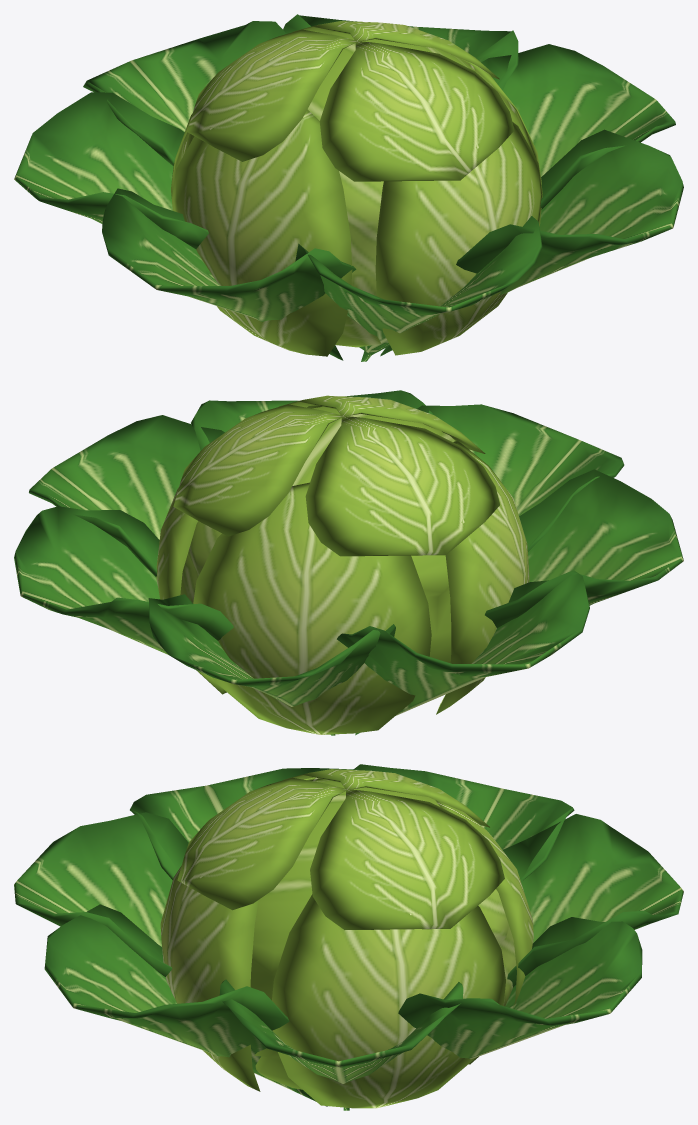
The model's file is NP_Cabbage_HeadForming_LOD1.fbx.
The picture shows the model from 3 angles, top to bottom: view 1: azimuth 30°, elevation 25°; view 2: azimuth 150°, elevation 25°; view 3: azimuth 270°, elevation 25°; orthographic projection.
Parts seen in each view (by area): view 1: NP_Cabbage_HeadForming; view 2: NP_Cabbage_HeadForming; view 3: NP_Cabbage_HeadForming.
Boxes of the visible parts, box(x1,y1,x2,y2) form: NP_Cabbage_HeadForming: box(14, 14, 683, 361); NP_Cabbage_HeadForming: box(14, 390, 683, 735); NP_Cabbage_HeadForming: box(14, 764, 683, 1110).
Bounding box in the file's own units: 64.05 × 32.75 × 64.08.
